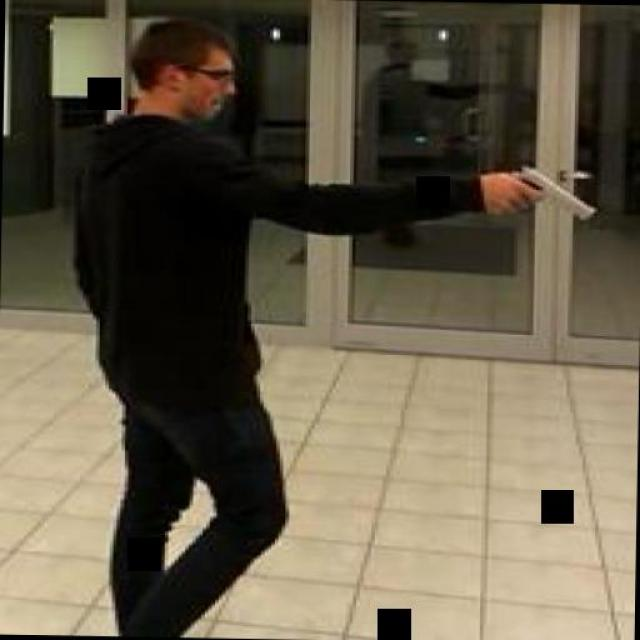gun: (494, 162, 595, 218)
